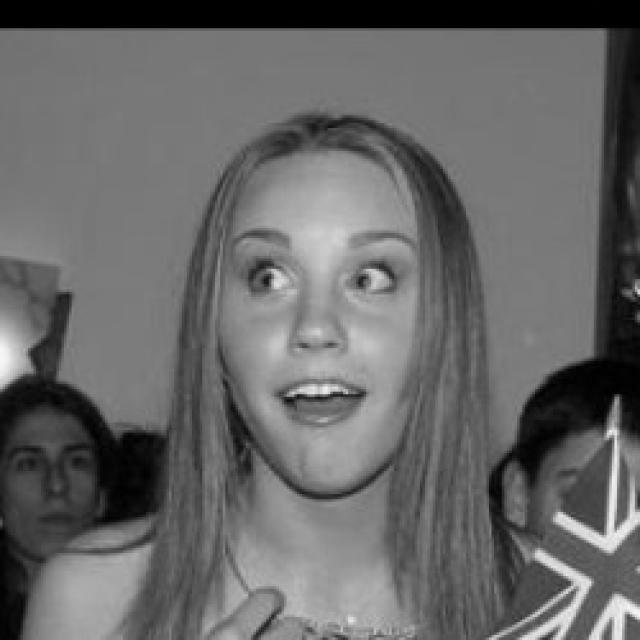real: (205, 134, 438, 510), (234, 243, 404, 311)
